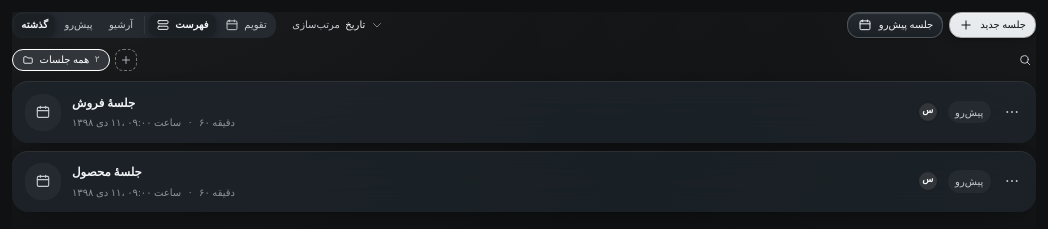
Test: Meetings › the view keys sit in the slices' own track, and the search is a KEY at the END of the folder line whose field opens toward the chips (2026-09-17)
Expected: the text "جلسهٔ فروش" is shown, [72,96,135,110]
Expected: the field with placeholder "جست‌وجوی جلسه" is not shown
Click the button named "جست‌وجوی جلسه": (1025, 60) [1014,49,1036,70]
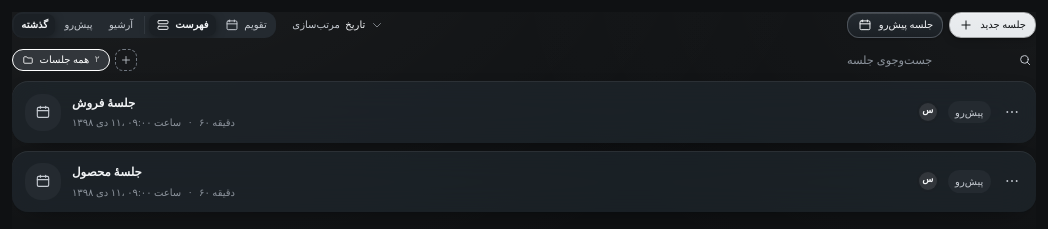
In the field with placeholder "جست‌وجوی جلسه": (927, 60) [840,49,1014,70], type "فروش"
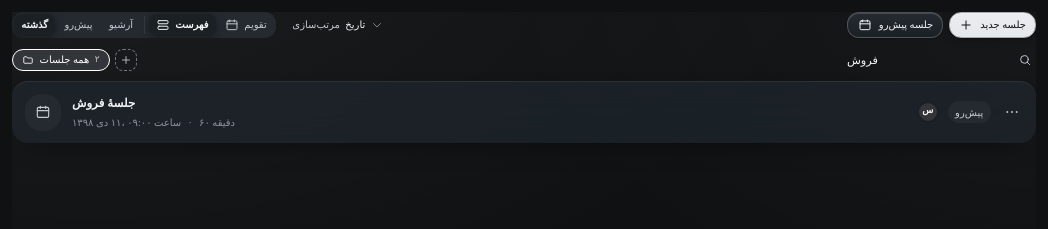
Expected: the button "جلسهٔ محصول" is gone
Click the button named "جست‌وجوی جلسه": (1025, 60) [1014,49,1036,70]
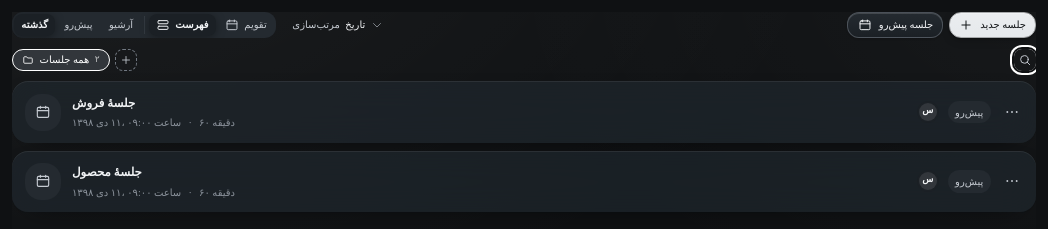
Expected: the field with placeholder "جست‌وجوی جلسه" is not shown
Expected: the text "جلسهٔ محصول" is shown, [72,165,142,179]
